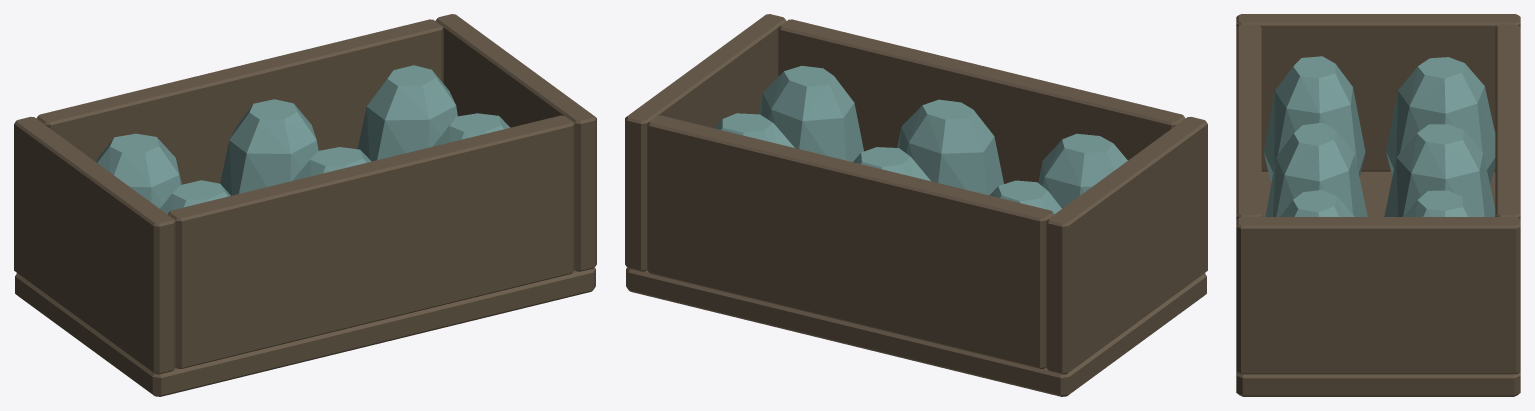
The model's file is ore-bin.glb.
The picture shows the model from 3 angles, left to right: view 1: azimuth 30°, elevation 25°; view 2: azimuth 150°, elevation 25°; view 3: azimuth 270°, elevation 25°; orthographic projection.
Parts seen in each view (by area): view 1: ore-bin__body; view 2: ore-bin__body; view 3: ore-bin__body.
Boxes of the visible parts, <box> form: ore-bin__body: <box>14,14,596,396</box>; ore-bin__body: <box>625,14,1207,396</box>; ore-bin__body: <box>1236,14,1520,396</box>.
Size of the model in its own units: 1.6 by 0.6 by 0.9.
